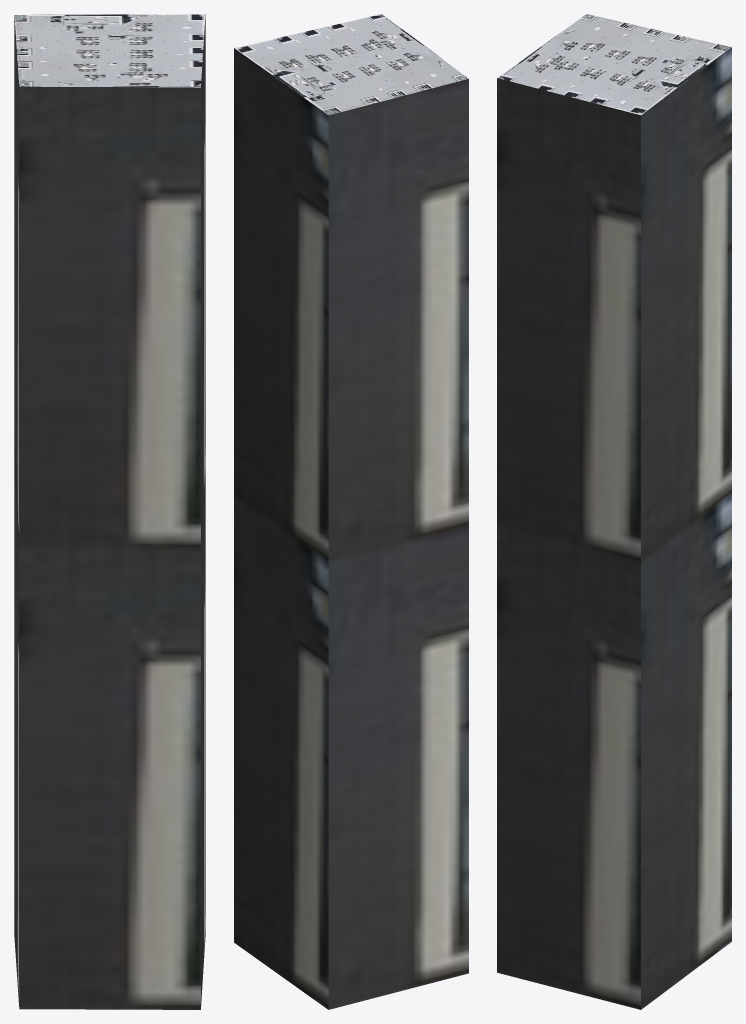
File: ResTex__751.fbx
The picture shows the model from 3 angles, left to right: view 1: azimuth 30°, elevation 25°; view 2: azimuth 150°, elevation 25°; view 3: azimuth 270°, elevation 25°; orthographic projection. The views are drawn at different scales.
Visible parts, largest first — view 1: CityEngineMaterial_22_m, CityEngineMaterial_8_m; view 2: CityEngineMaterial_22_m, CityEngineMaterial_8_m; view 3: CityEngineMaterial_22_m, CityEngineMaterial_8_m.
Part boxes in pixels (x1=…): CityEngineMaterial_22_m: x1=14, y1=14, x2=205, y2=1009; CityEngineMaterial_8_m: x1=14, y1=14, x2=205, y2=87; CityEngineMaterial_22_m: x1=234, y1=48, x2=468, y2=1009; CityEngineMaterial_8_m: x1=234, y1=14, x2=468, y2=115; CityEngineMaterial_22_m: x1=497, y1=47, x2=731, y2=1009; CityEngineMaterial_8_m: x1=497, y1=14, x2=731, y2=115.
Size of the model in its own units: 1.46 by 6 by 1.43.
2 materials, 2 textured.
